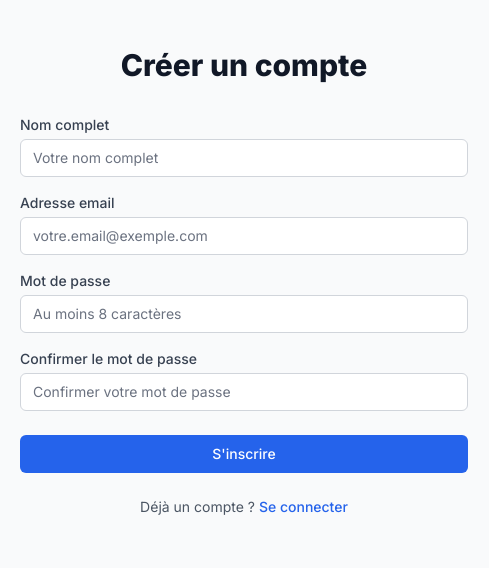
Test: FormulaireInscription › Validation de la correspondance des mots de passe › affiche une erreur quand les mots de passe ne correspondent pas
Type "motdepasse123" into the password field labelled "Mot de passe". click: {"x": 244, "y": 314}
box: [20,295,468,333]
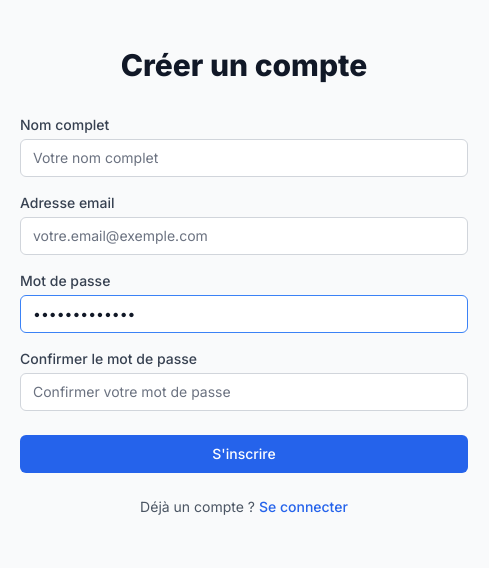
Type "motdepasse456" into the password field labelled "Confirmer le mot de passe". click: {"x": 244, "y": 392}
box: [20,373,468,411]
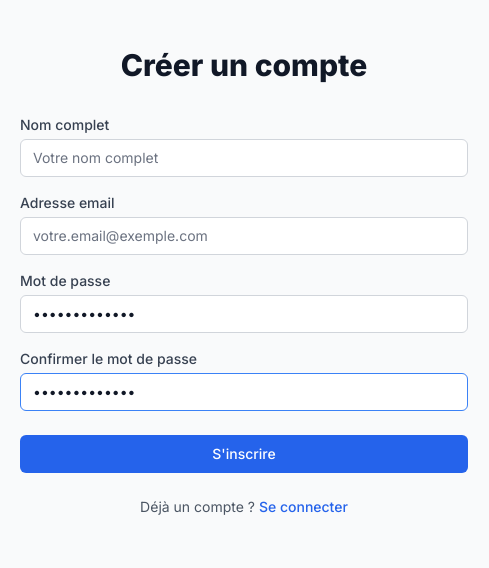
Click the button "S'inscrire". click: {"x": 244, "y": 454}
box: [20,435,468,473]
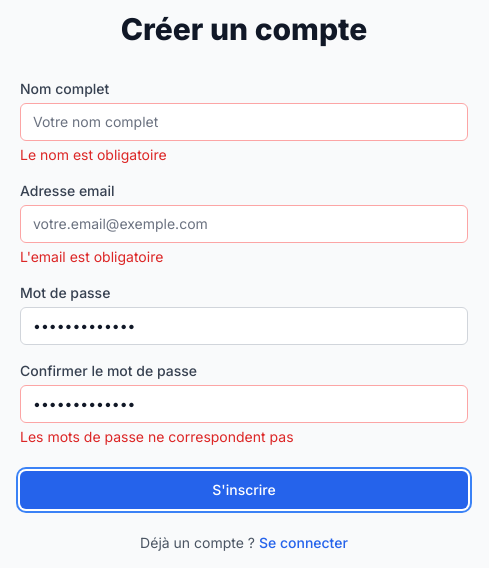
expect the text "Les mots de passe ne correspondent pas" is shown: met, box [20,428,294,445]
